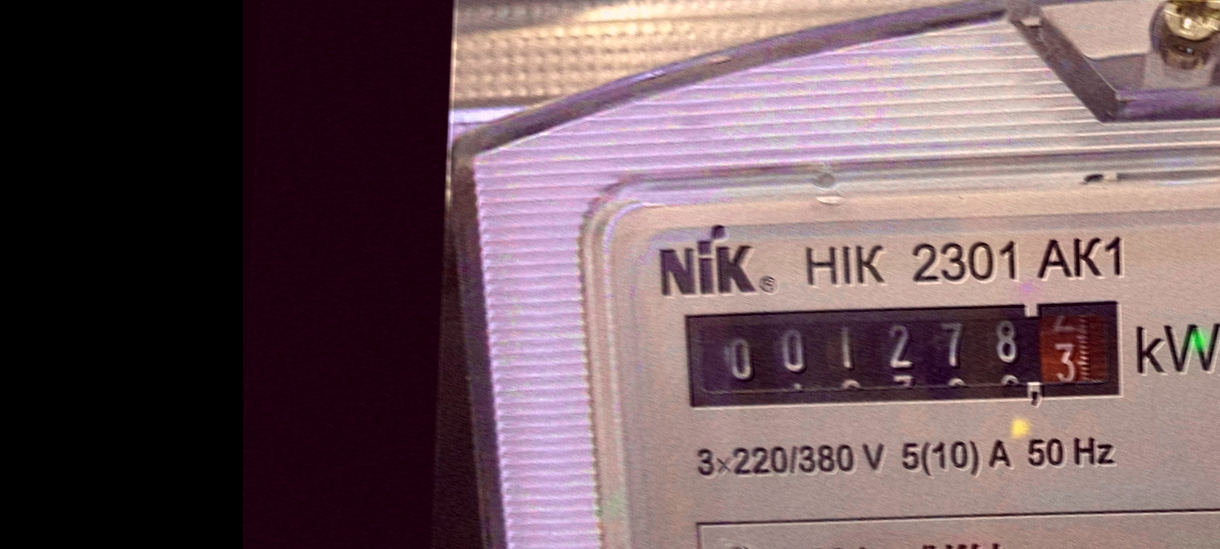0: (728, 333, 757, 381), (780, 326, 808, 374)
1: (838, 321, 858, 369)
2: (887, 322, 915, 370), (1052, 312, 1077, 333)
3: (1052, 339, 1080, 384)
7: (940, 319, 964, 367)
8: (995, 318, 1021, 363)
screen: (668, 270, 1142, 437)
